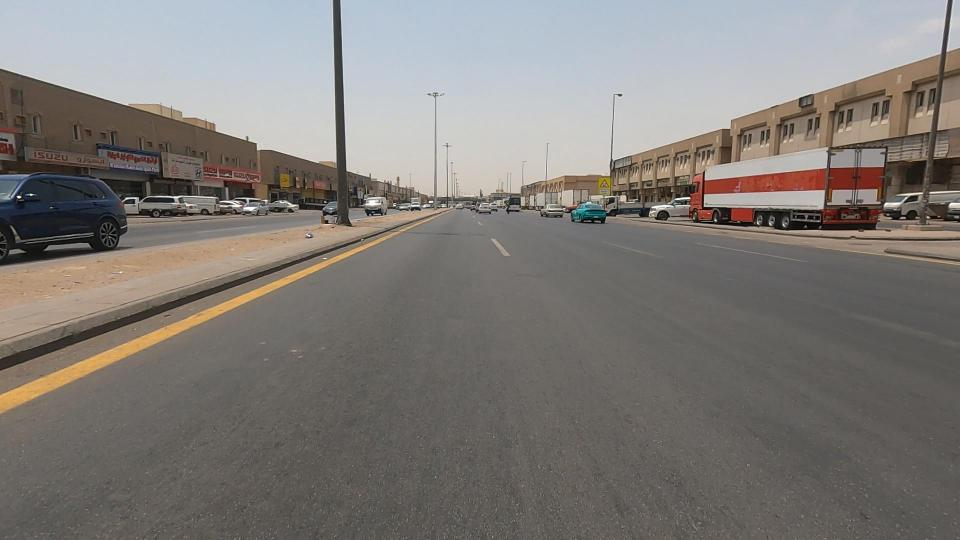GARBAGE: (278, 217, 333, 257)
